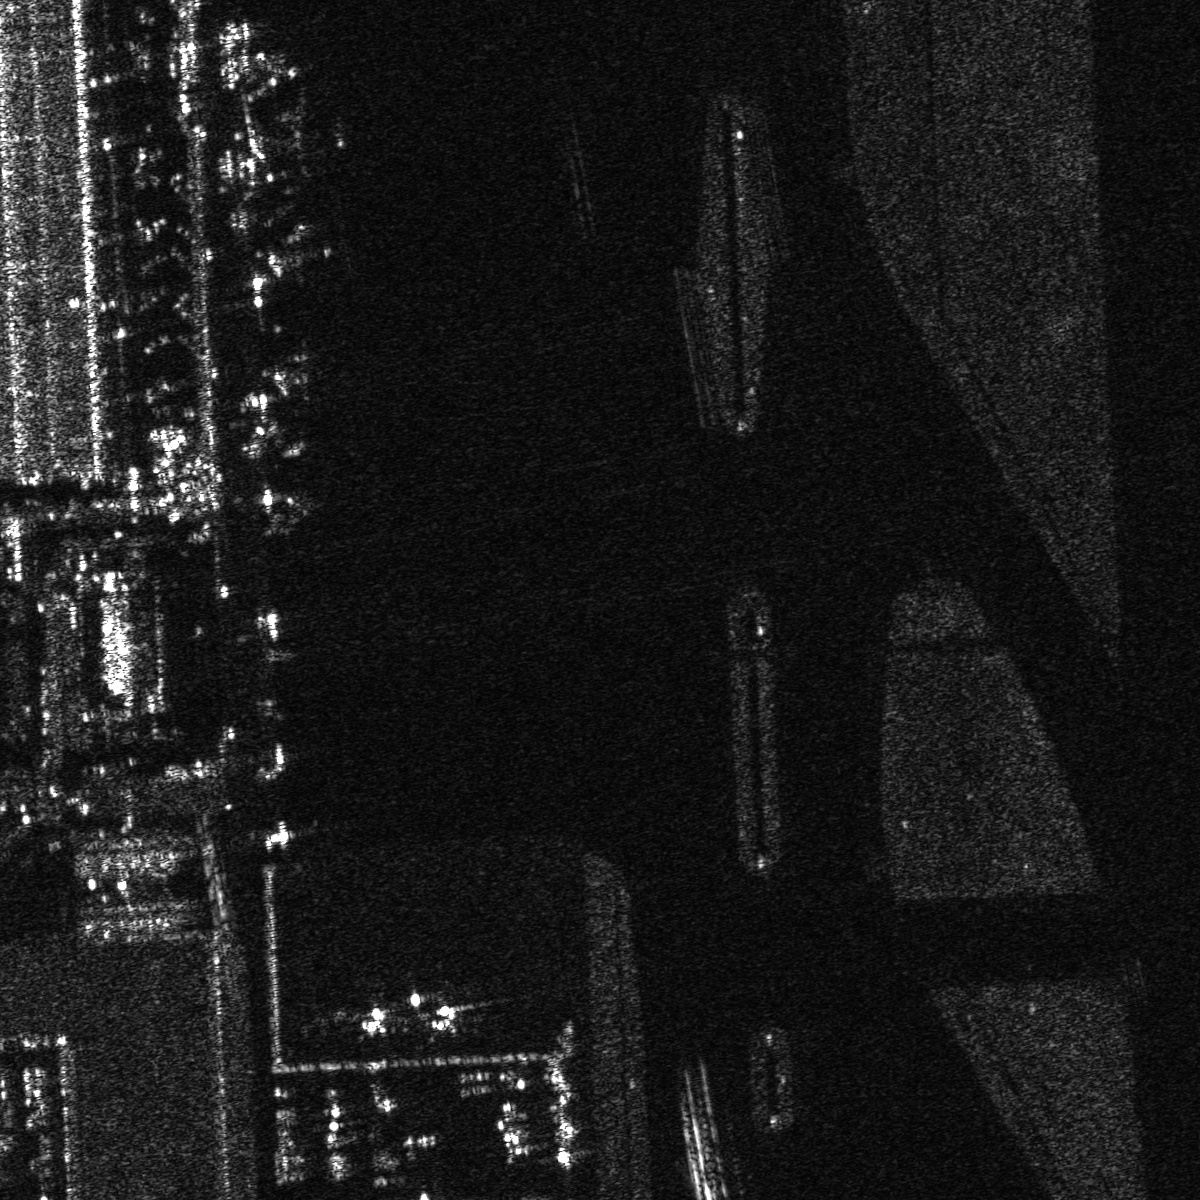A220: (238, 85, 353, 197)
ARJ21: (334, 995, 412, 1041)
other: (251, 212, 356, 295), (262, 334, 340, 415), (416, 993, 489, 1038)
